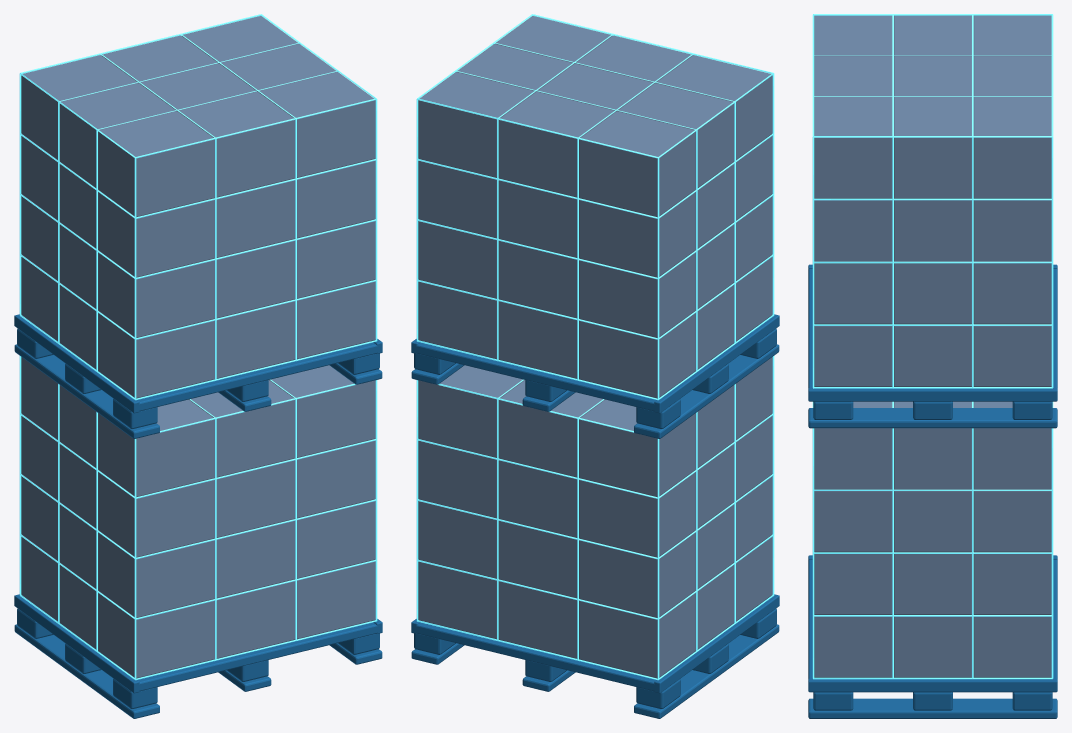
Rendered from SM_GHS_Presentation_CargoHigh.fbx.
The picture shows the model from 3 angles, left to right: view 1: azimuth 30°, elevation 25°; view 2: azimuth 150°, elevation 25°; view 3: azimuth 270°, elevation 25°; orthographic projection. The views are drawn at different scales.
Visible parts, largest first — view 1: SM_GHS_Presentation_CargoHigh; view 2: SM_GHS_Presentation_CargoHigh; view 3: SM_GHS_Presentation_CargoHigh.
Part boxes in pixels (x1,y1,x2,y2): SM_GHS_Presentation_CargoHigh: (14, 14, 382, 718); SM_GHS_Presentation_CargoHigh: (411, 14, 779, 718); SM_GHS_Presentation_CargoHigh: (808, 14, 1057, 718).
Bounding box in the file's own units: 120 × 100 × 258.
